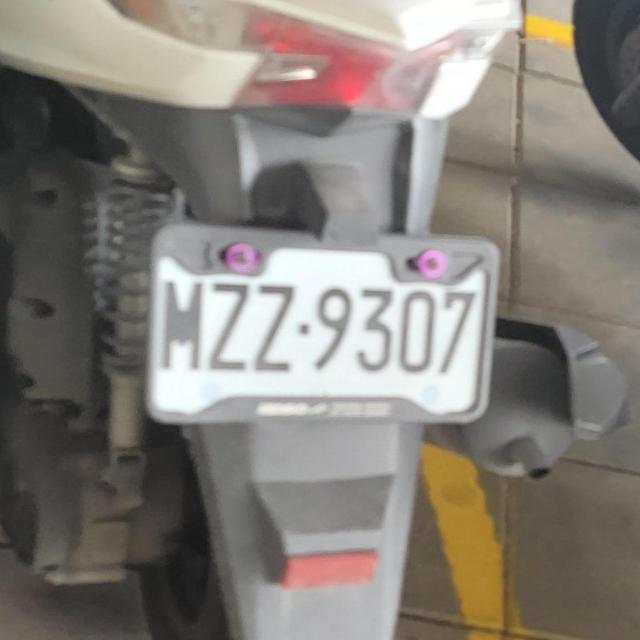W: (130, 204, 505, 430)
